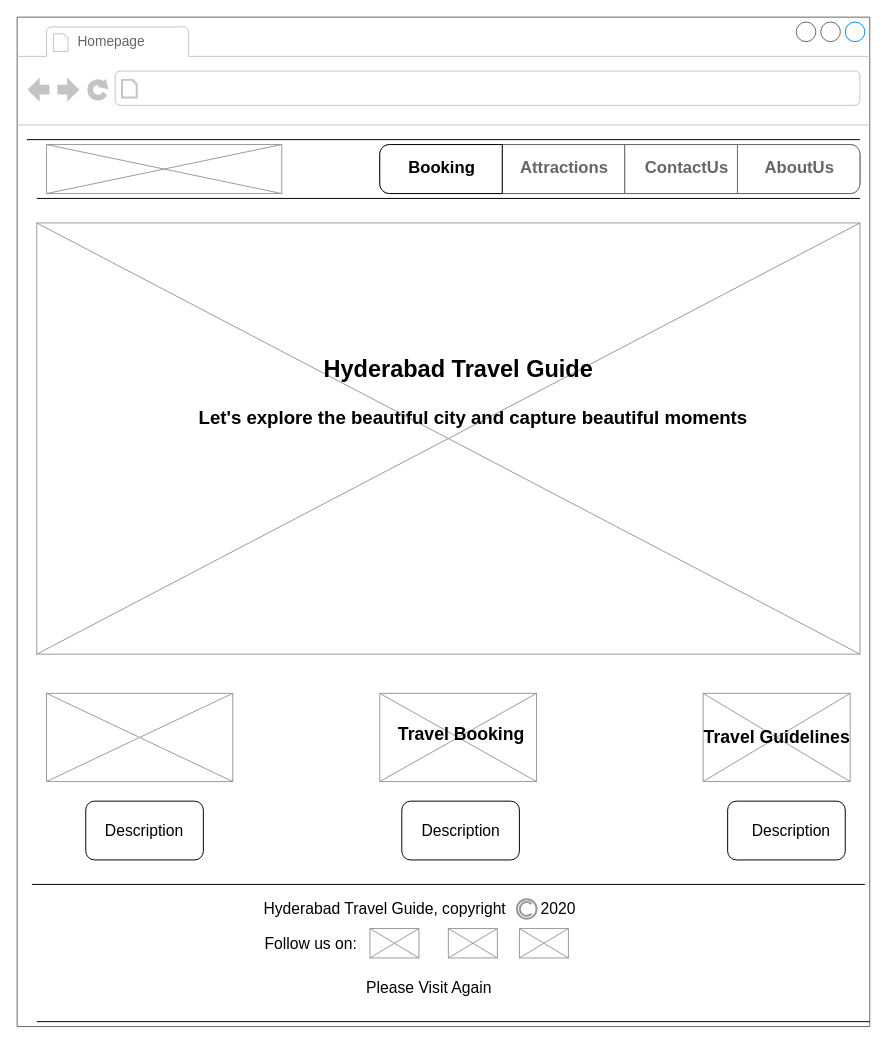
Image size: 887x1044. Some labels were removed from this diagram. Here are the shapes that lost their labels. From the top down, the centre of each, then its label:
At (267,88): "https://penchalaprasadkommi.github.io/HydTravelWebsite/".
At (164,169): "Welcome To Hyderabad".
At (139,737): "Covid-19 Information".
